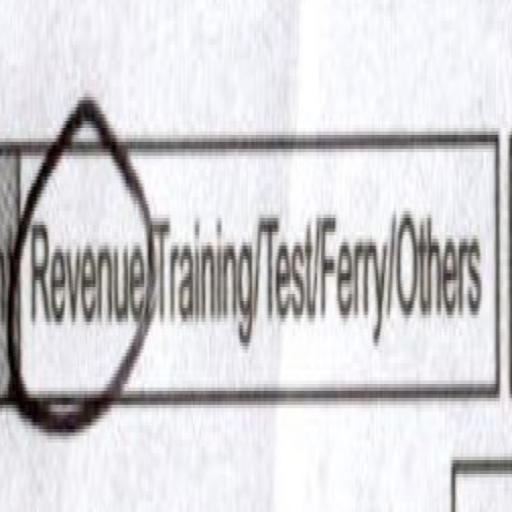check: (18, 55, 148, 448)
